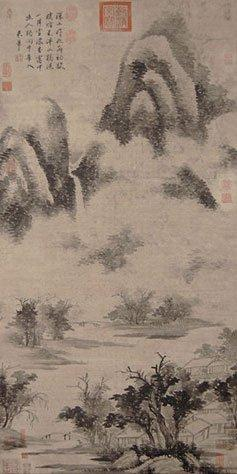bridge: (29, 427, 95, 445), (67, 315, 107, 329)
house: (180, 410, 237, 447), (183, 358, 229, 381), (111, 428, 150, 448)
mountain: (98, 17, 210, 229), (2, 98, 77, 245)
river: (11, 355, 85, 469), (81, 334, 197, 371)
tree: (125, 372, 184, 452), (113, 294, 185, 324), (18, 302, 62, 343), (77, 381, 110, 428), (2, 377, 25, 425)
